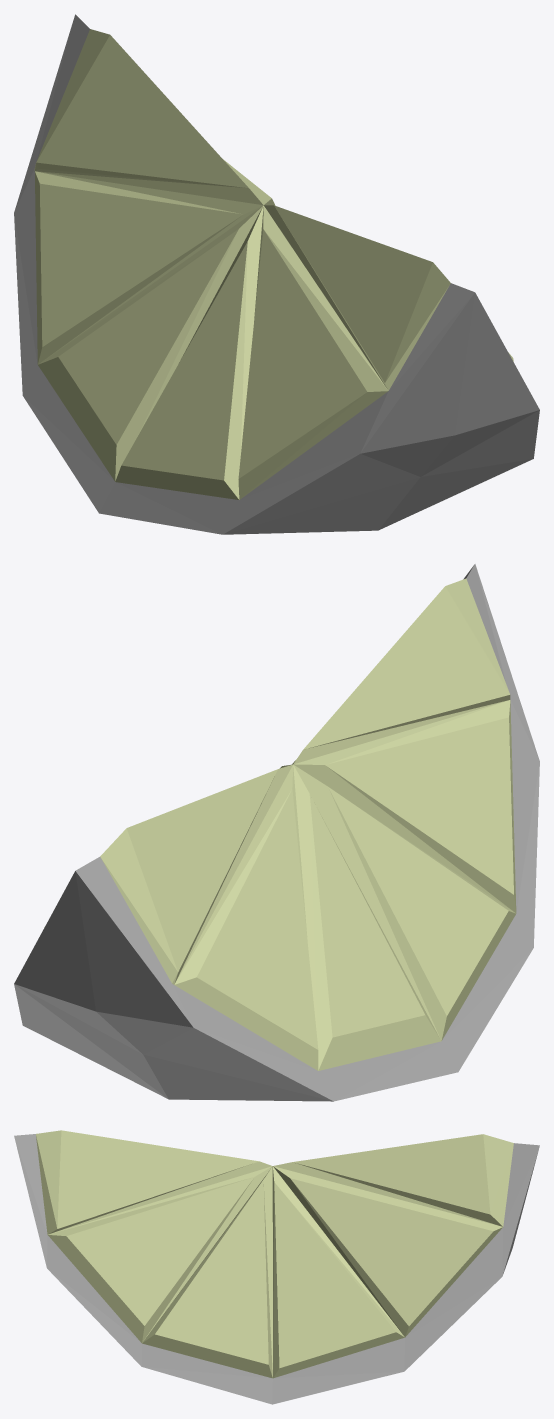
Rendered from lemon.fbx.
3 views of the same model, one above another, from view 1: azimuth 30°, elevation 25°; view 2: azimuth 150°, elevation 25°; view 3: azimuth 270°, elevation 25° (orthographic). The views are drawn at different scales.
Visible parts, largest first — view 1: pSphere3; view 2: pSphere3; view 3: pSphere3.
Boxes of the visible parts, x1,y1,x2,y2 form: pSphere3: [14, 14, 539, 534]; pSphere3: [14, 564, 539, 1101]; pSphere3: [14, 1130, 539, 1404].
Size of the model in its own units: 0.0104 by 0.00984 by 0.02.
